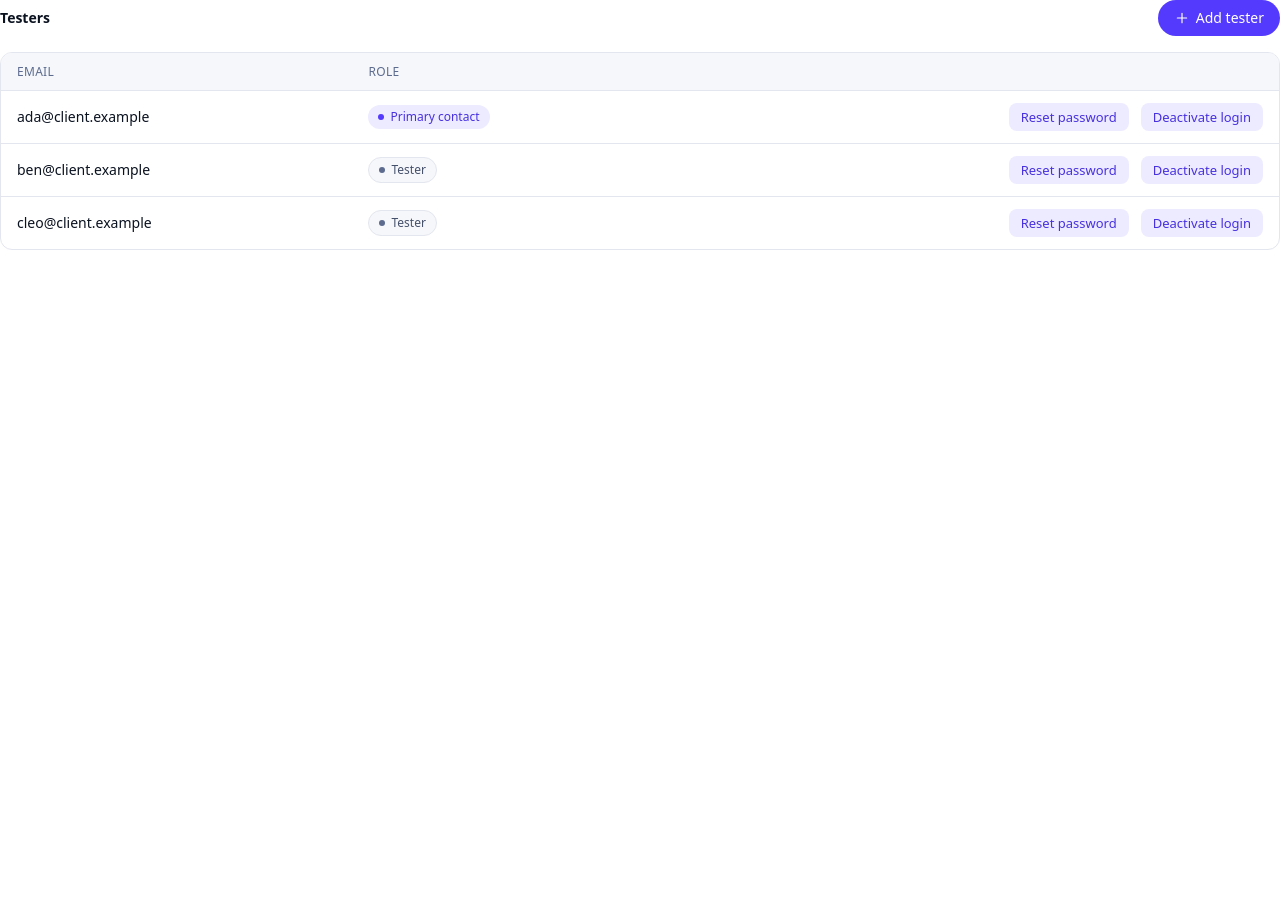
Scenario: ManagerTestersView reset password › says the Tester no longer exists on a 404
Click the button with aria-label "Reset password for cleo@client.example" at (1069, 223), box [1009,209,1129,237]
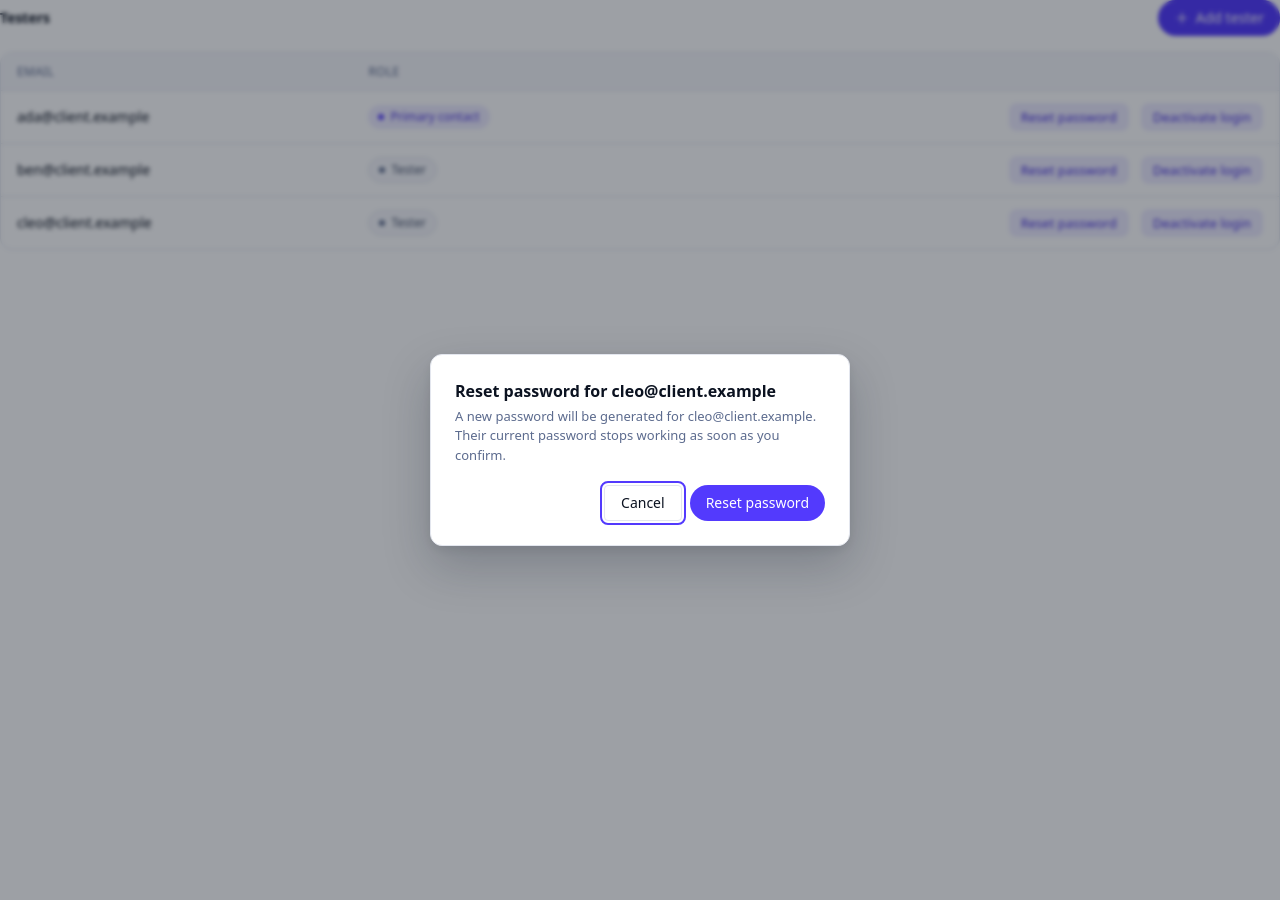
Click the button "Reset password" at (757, 503), box [690,485,825,521]
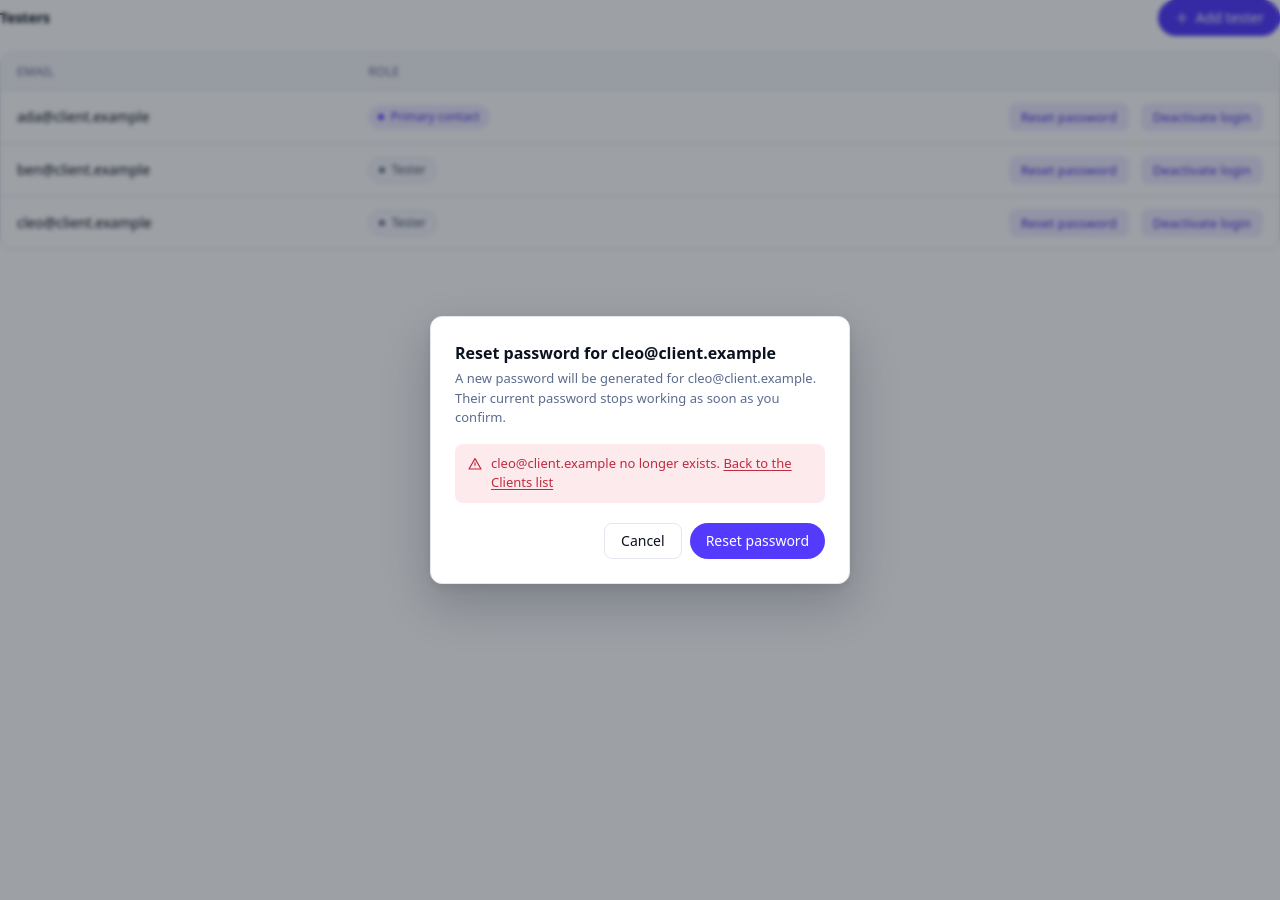
Expected: the message shows "cleo@client.example no longer exists.", [491,454,720,472]
